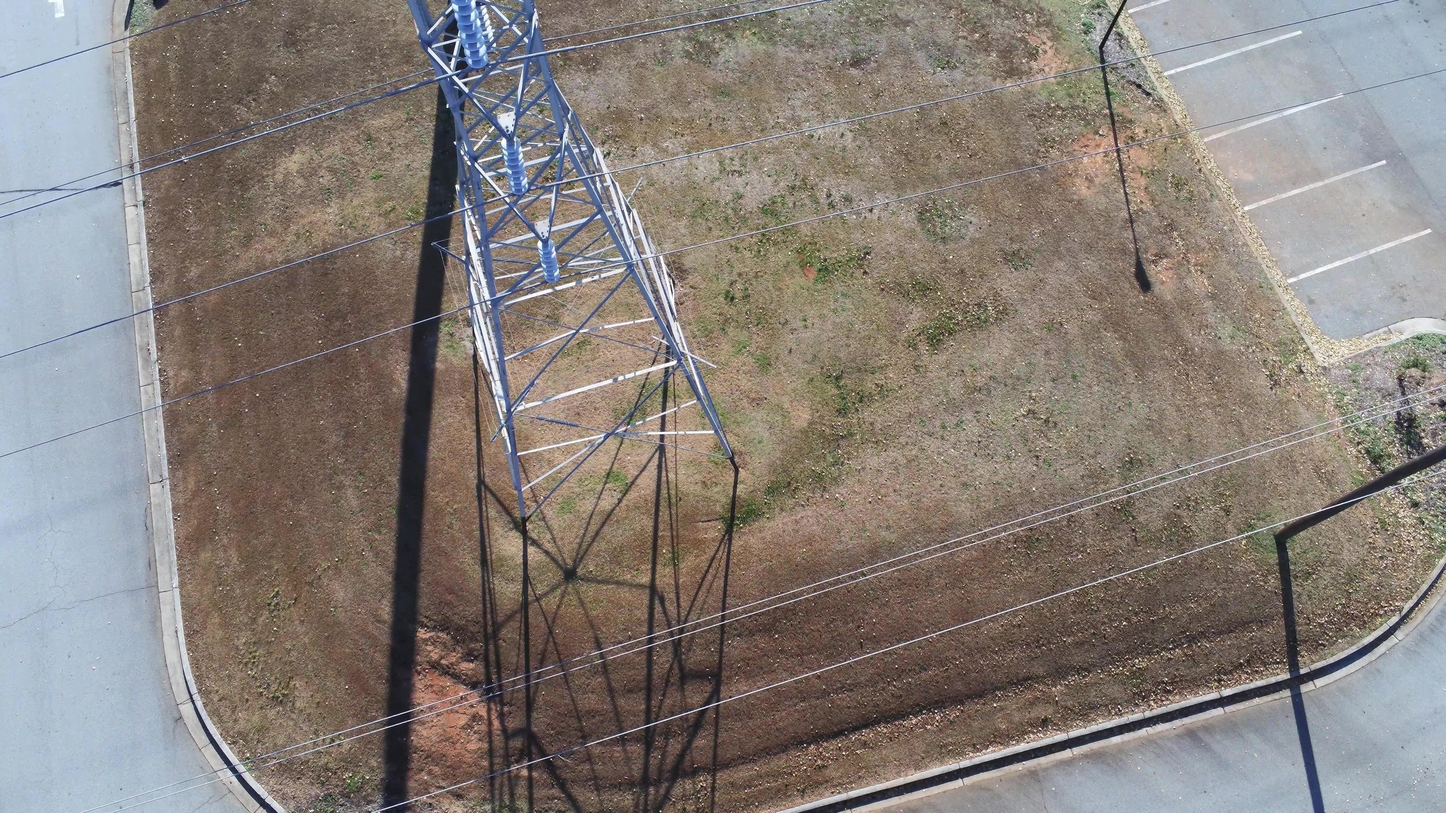power_tower: (407, 0, 737, 519)
